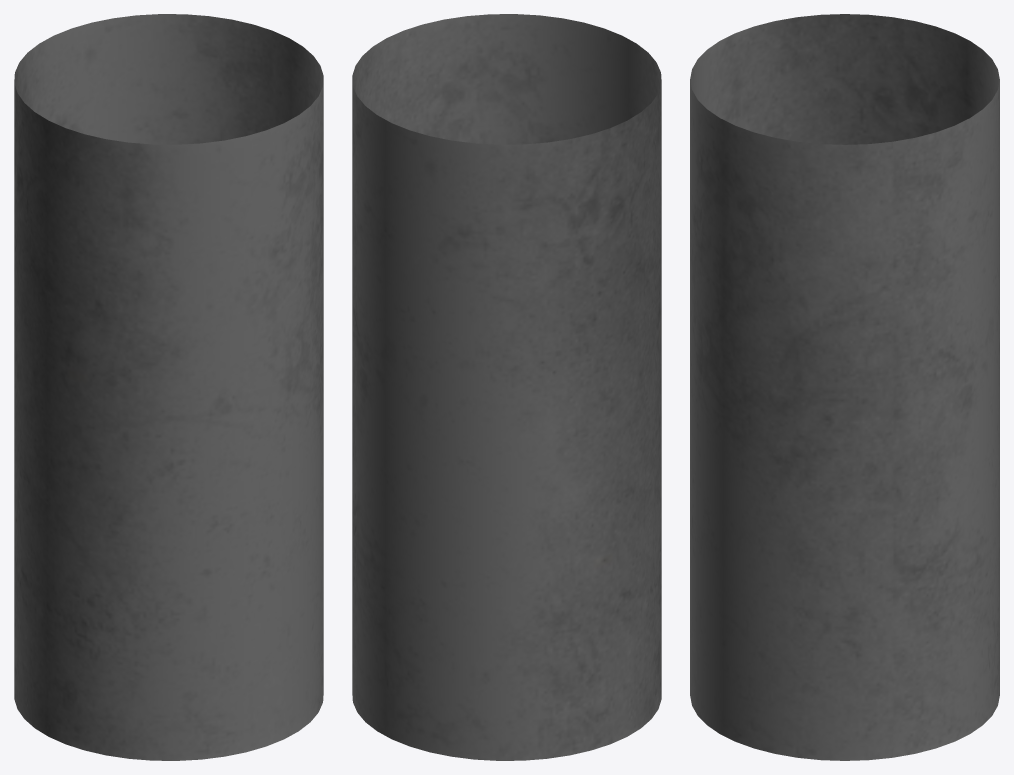
The model's file is TuboCurto.glb.
3 views of the same model, side by side, from view 1: azimuth 30°, elevation 25°; view 2: azimuth 150°, elevation 25°; view 3: azimuth 270°, elevation 25° (orthographic).
Visible parts, largest first — view 1: pipe_short; view 2: pipe_short; view 3: pipe_short.
Part boxes in pixels (x1,y1,x2,y2): pipe_short: (14, 14, 323, 760); pipe_short: (352, 14, 661, 760); pipe_short: (690, 14, 999, 760).
Size of the model in its own units: 0.0198 by 0.0433 by 0.0198.
1 material, 1 textured.
